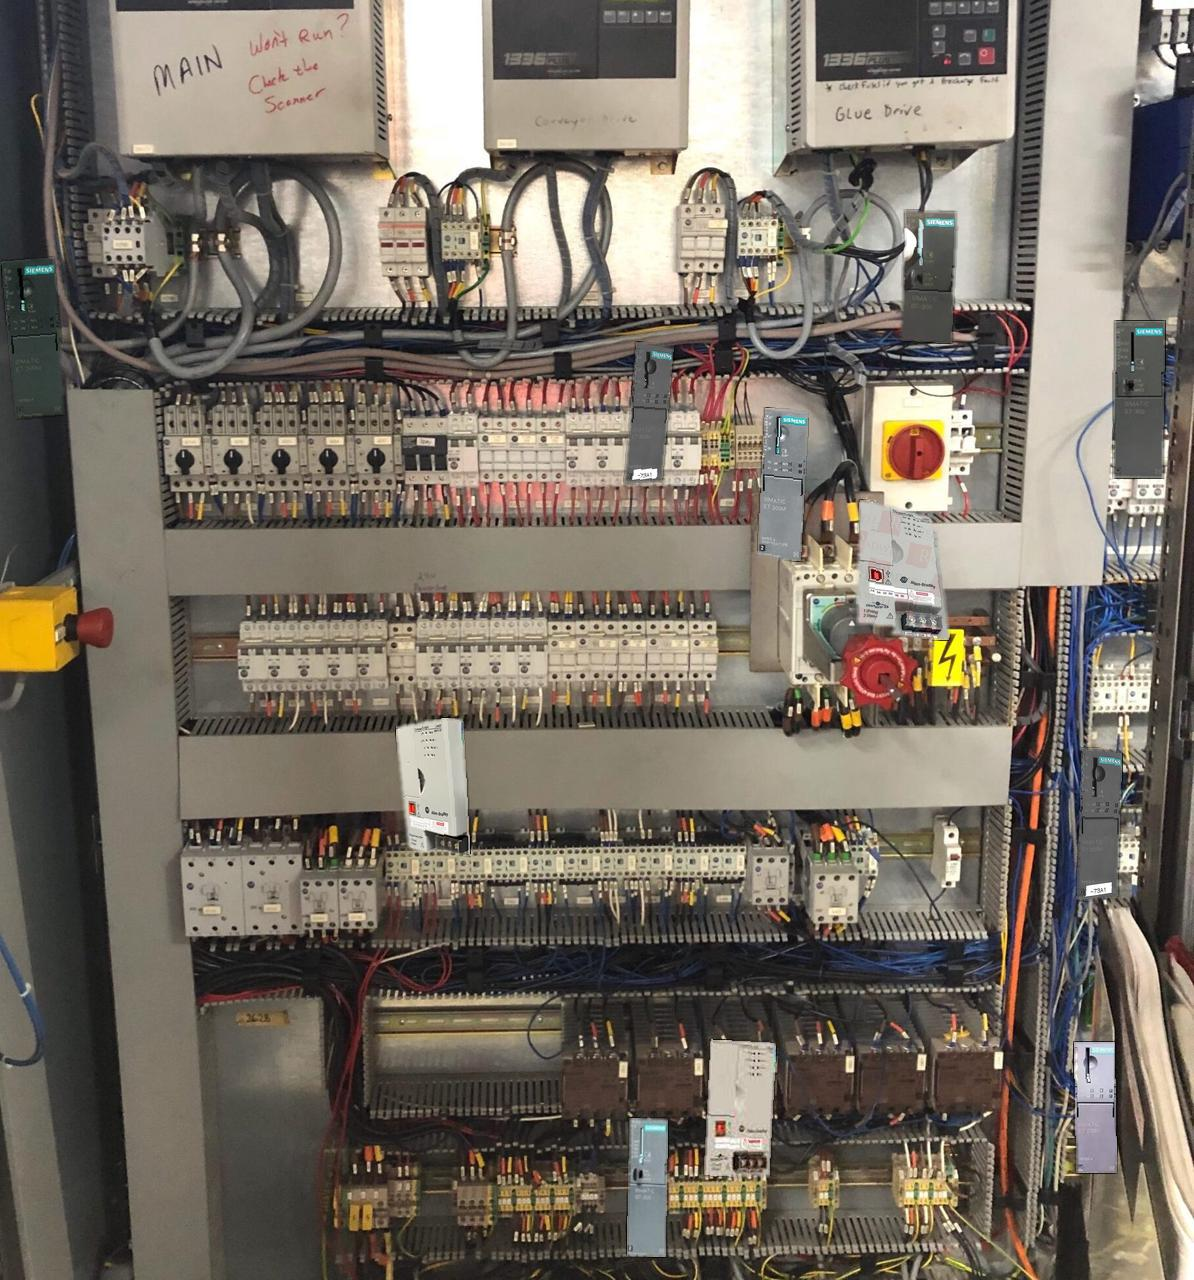AllenBradley: (857, 500, 949, 639), (396, 718, 470, 855), (705, 1039, 775, 1176)
Siemens: (1114, 321, 1164, 477), (901, 211, 956, 342), (627, 1118, 667, 1256)
